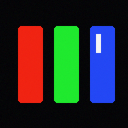4 line_v: (96, 34, 100, 52)
